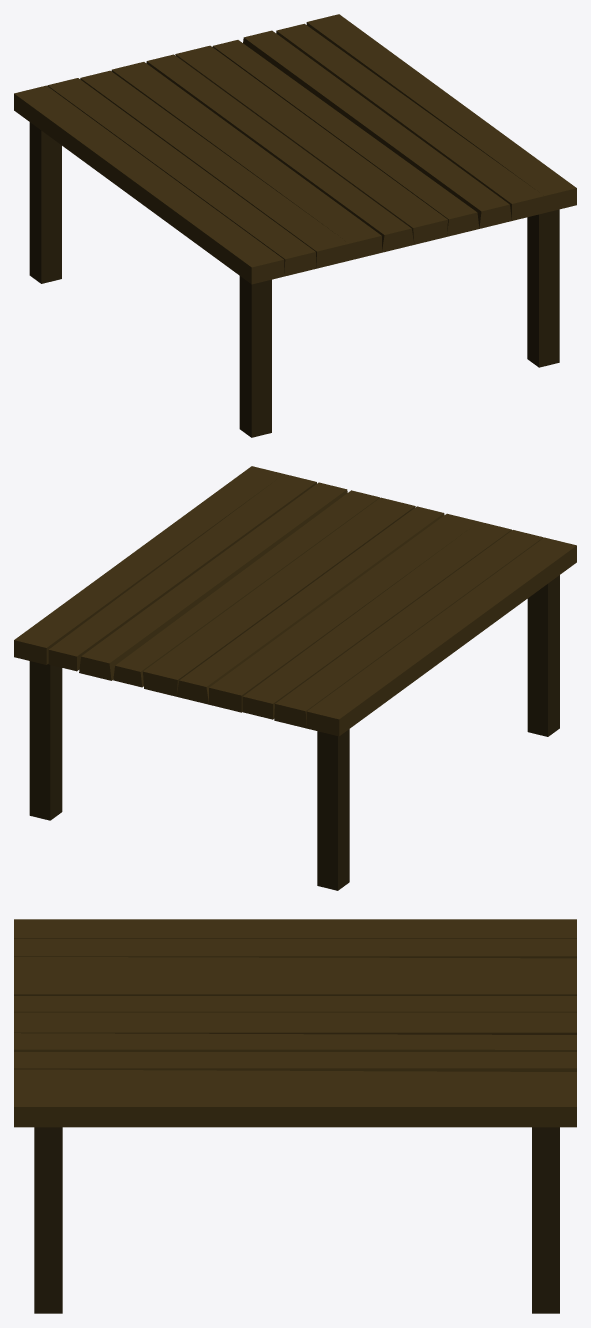
Rendered from pont.fbx.
The picture shows the model from 3 angles, top to bottom: view 1: azimuth 30°, elevation 25°; view 2: azimuth 150°, elevation 25°; view 3: azimuth 270°, elevation 25°; orthographic projection. The views are drawn at different scales.
Parts seen in each view (by area): view 1: Cube.004; view 2: Cube.004; view 3: Cube.004.
Part boxes in pixels (x1,y1,x2,y2): Cube.004: (14,14,576,437); Cube.004: (14,466,576,890); Cube.004: (14,919,576,1313).
Size of the model in its own units: 600 by 315 by 760.
